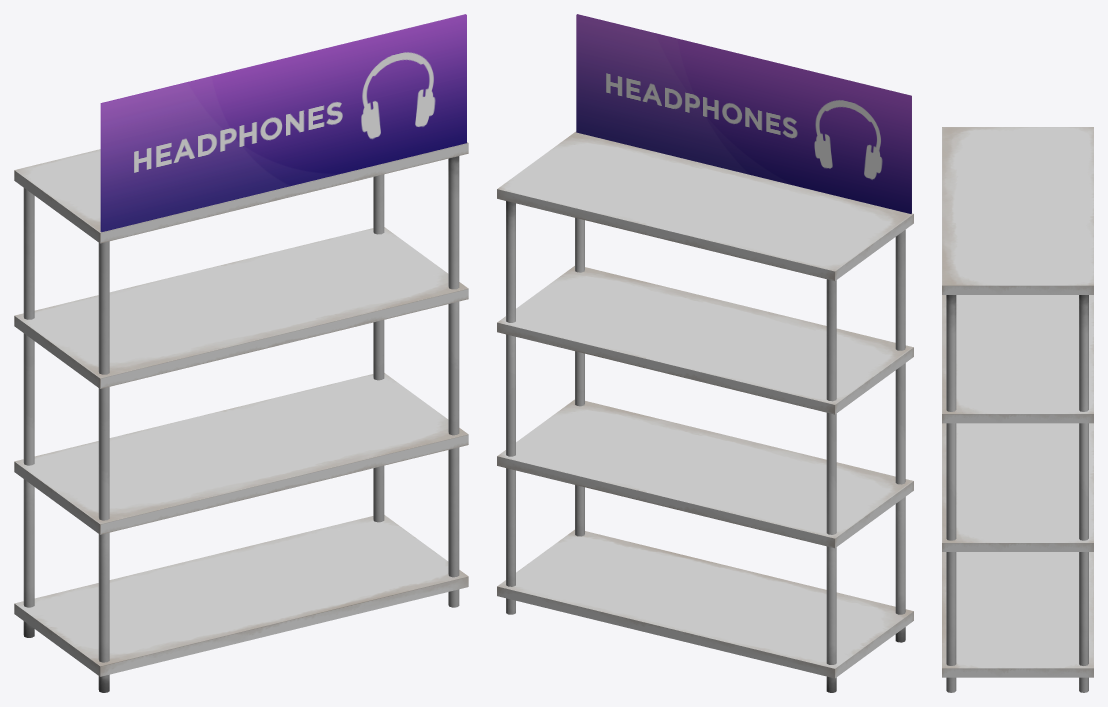
File: Self_2.fbx
The picture shows the model from 3 angles, left to right: view 1: azimuth 30°, elevation 25°; view 2: azimuth 150°, elevation 25°; view 3: azimuth 270°, elevation 25°; orthographic projection. The views are drawn at different scales.
Visible parts, largest first — view 1: Shelf_2; view 2: Shelf_2; view 3: Shelf_2.
Part boxes in pixels (x1,y1,x2,y2): Shelf_2: (14, 14, 468, 692); Shelf_2: (497, 14, 913, 692); Shelf_2: (942, 127, 1093, 692).
Bounding box in the file's own units: 129 × 199 × 52.27.
